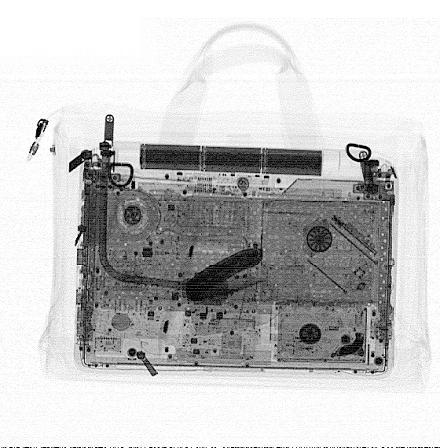Knife: (183, 245, 269, 303)
